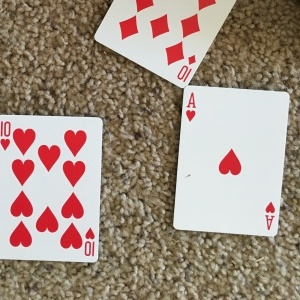card: (172, 85, 289, 237)
